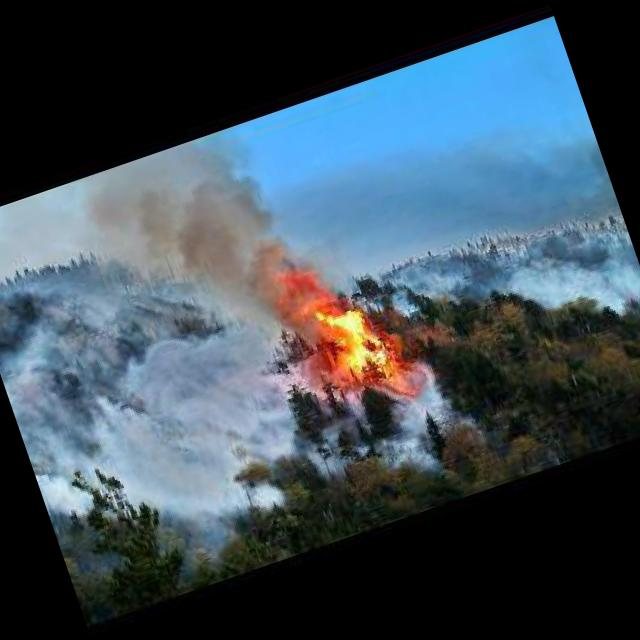fire: (99, 124, 318, 338), (321, 288, 393, 376)
